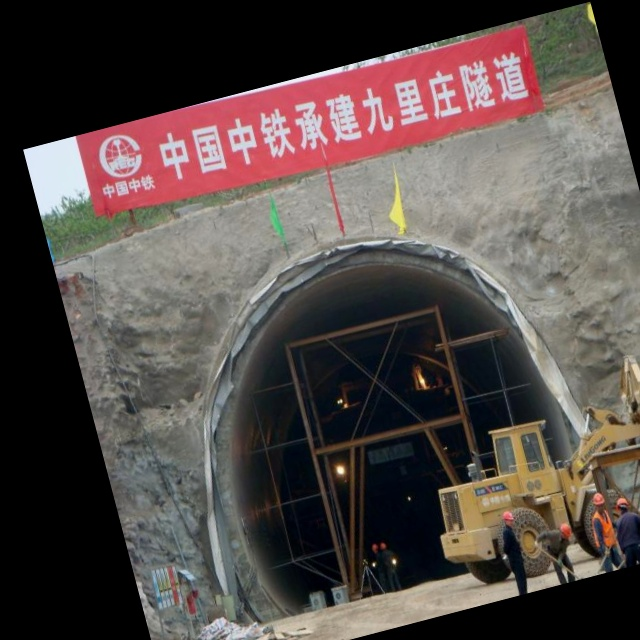Con_Casco: (558, 522, 574, 543), (591, 491, 607, 511)
Con_Chaleco: (588, 507, 618, 549)
Sin_Chaleco: (499, 525, 526, 567), (614, 508, 640, 550)
